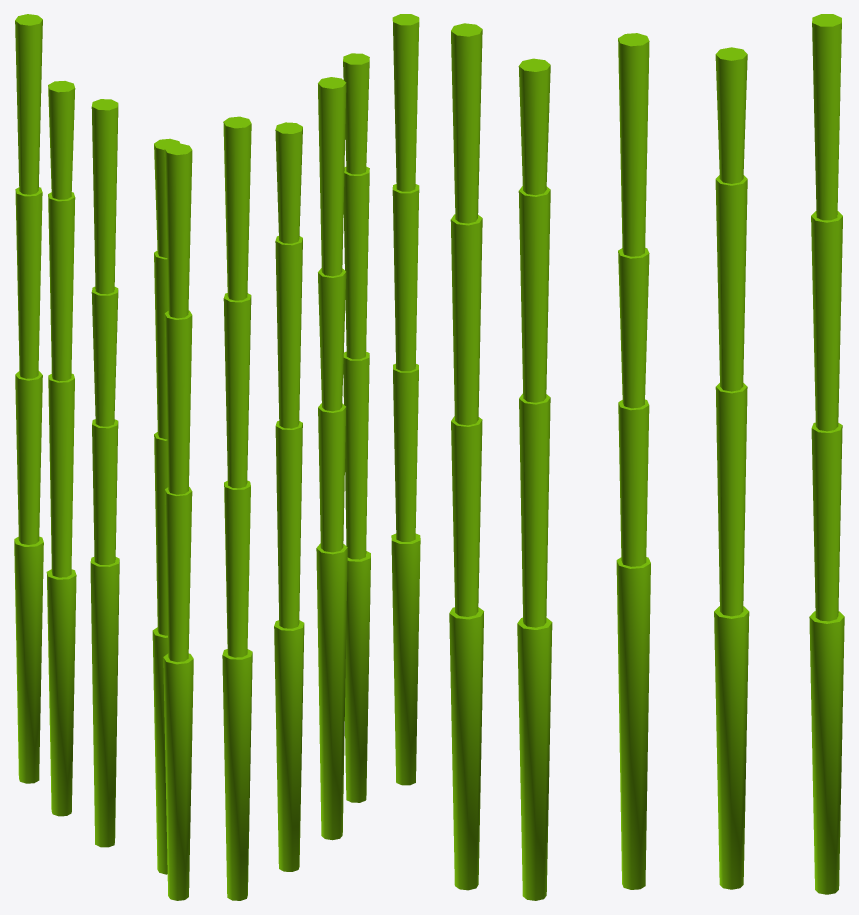
Rendered from Nature_Deco_Bamboo1.obj.
3 views of the same model, side by side, from view 1: azimuth 30°, elevation 25°; view 2: azimuth 150°, elevation 25°; view 3: azimuth 270°, elevation 25° (orthographic). The views are drawn at different scales.
Visible parts, largest first — view 1: Nature_Deco_Bamboo1; view 2: Nature_Deco_Bamboo1; view 3: Nature_Deco_Bamboo1.
Boxes of the visible parts, box(x1,y1,x2,y2) form: Nature_Deco_Bamboo1: box(14, 14, 193, 900); Nature_Deco_Bamboo1: box(222, 14, 420, 900); Nature_Deco_Bamboo1: box(449, 14, 844, 900).
Bounding box in the file's own units: 0.1565 × 2.43 × 1.
